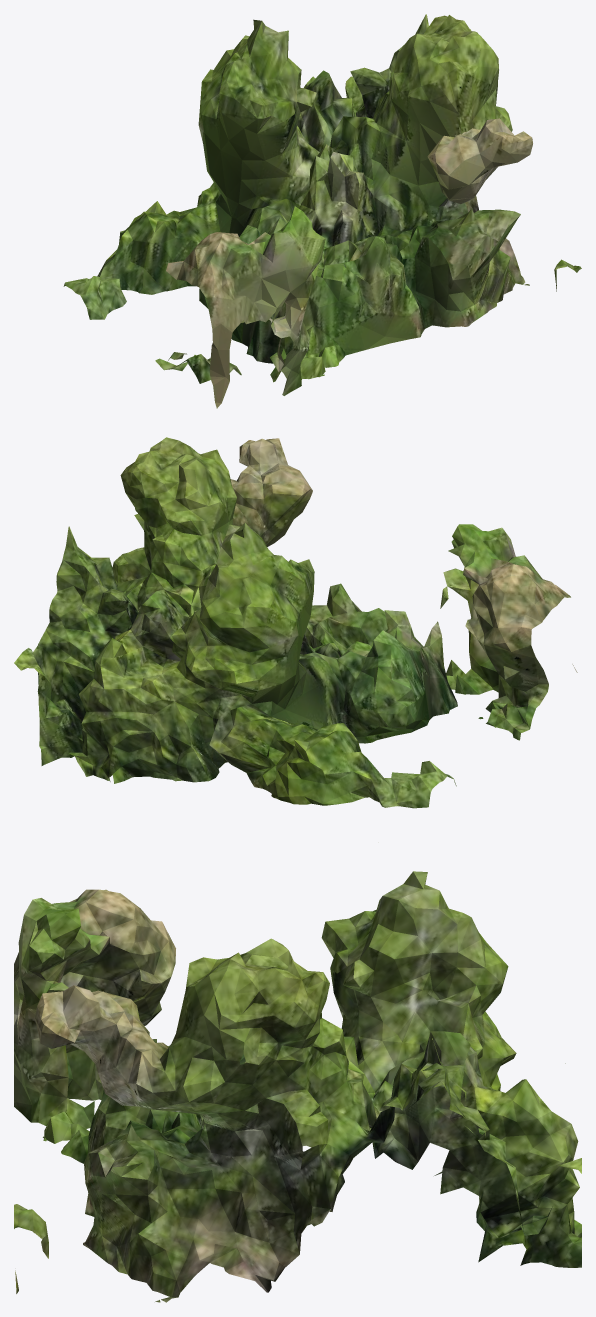
3 views of the same model, one above another, from view 1: azimuth 30°, elevation 25°; view 2: azimuth 150°, elevation 25°; view 3: azimuth 270°, elevation 25° (orthographic). The views are drawn at different scales.
Bounding box in the file's own units: 26.11 × 16.46 × 26.11.
5 materials, 5 textured.
